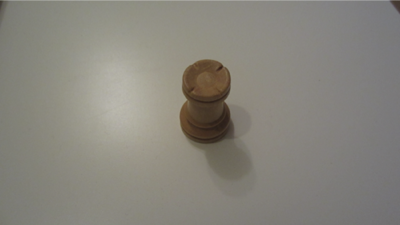white-rook: (179, 58, 233, 145)
